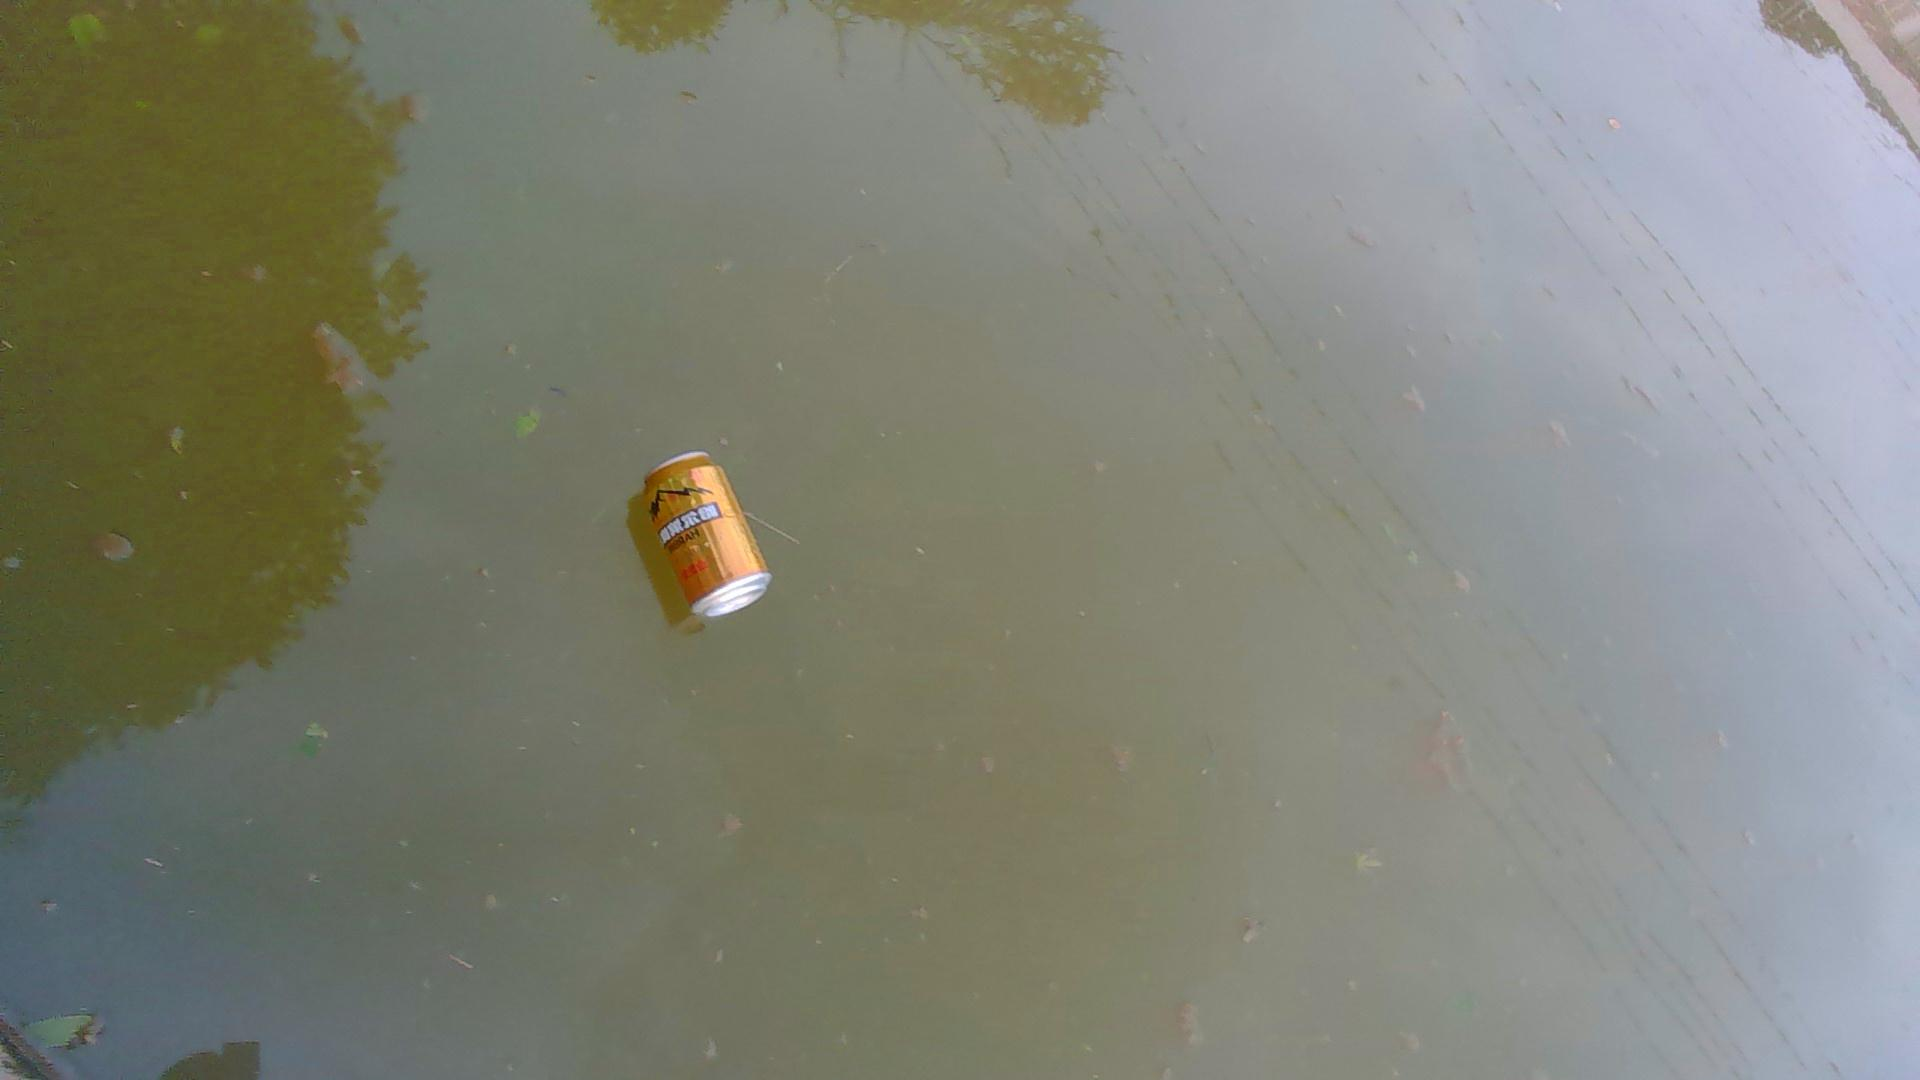Metal: (636, 440, 778, 624)
